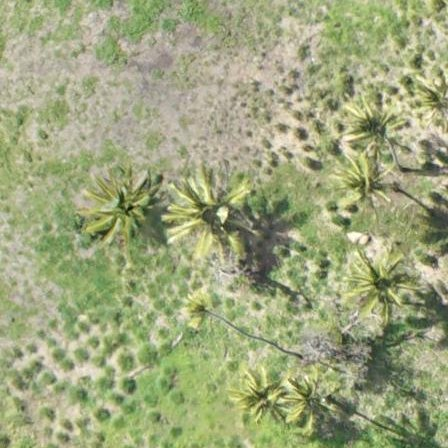palm_tree: (330, 84, 404, 163), (340, 245, 411, 321), (163, 171, 233, 246), (90, 168, 156, 239), (231, 365, 293, 426), (336, 158, 395, 210), (284, 371, 333, 429), (177, 283, 222, 333)
